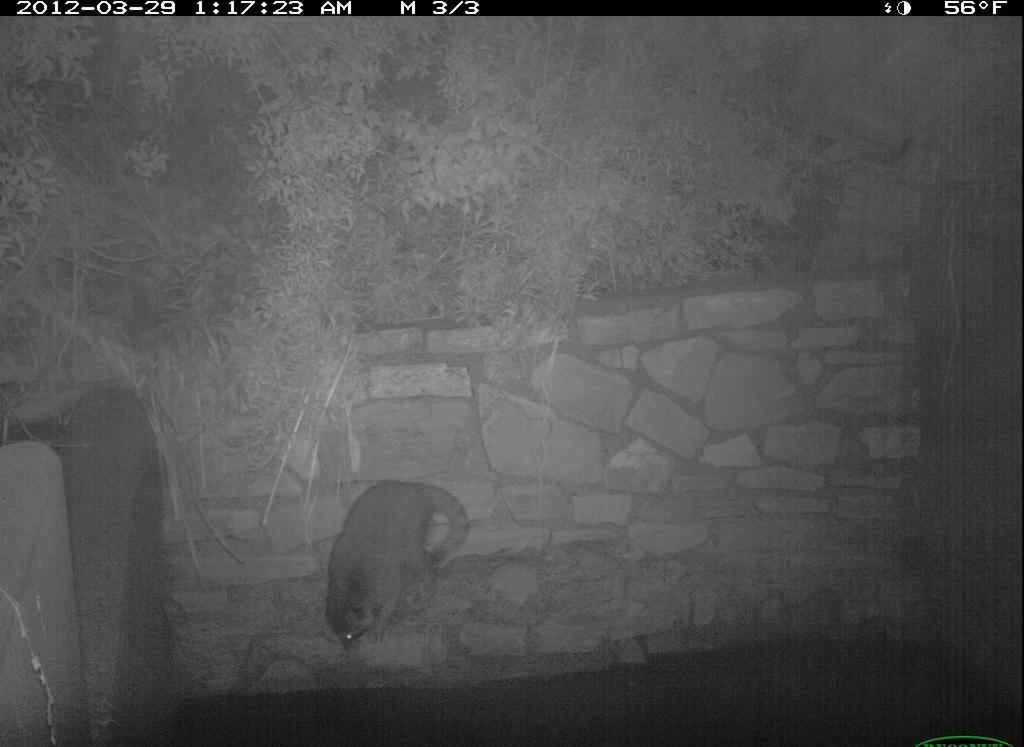raccoon: (297, 455, 504, 649)
